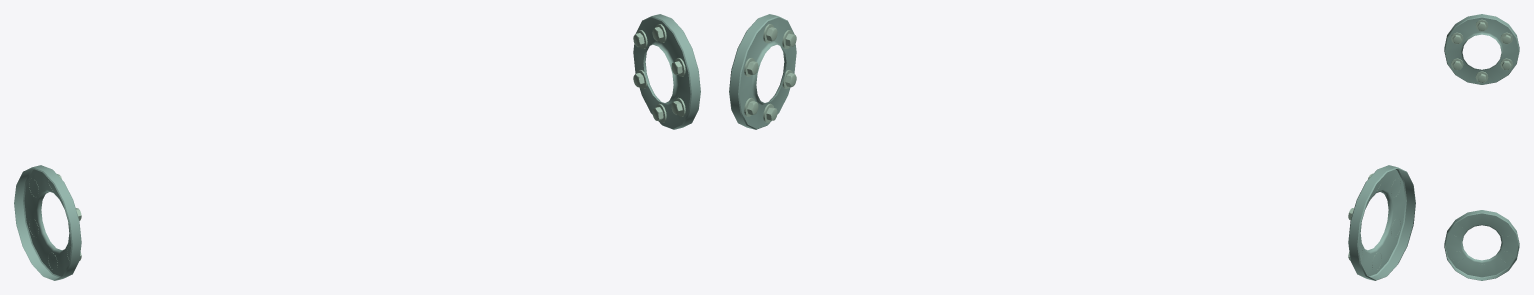
Rendered from PipeComplexLarge_A3_13_End.fbx.
3 renders of one model, left to right at view 1: azimuth 30°, elevation 25°; view 2: azimuth 150°, elevation 25°; view 3: azimuth 270°, elevation 25°, orthographic. The views are drawn at different scales.
Parts seen in each view (by area): view 1: PipeComplexLarge_A3_13_End.001; view 2: PipeComplexLarge_A3_13_End.001; view 3: PipeComplexLarge_A3_13_End.001.
Boxes of the visible parts, bbox=[...] form: PipeComplexLarge_A3_13_End.001: bbox=[14, 14, 700, 280]; PipeComplexLarge_A3_13_End.001: bbox=[729, 14, 1415, 280]; PipeComplexLarge_A3_13_End.001: bbox=[1444, 14, 1519, 280].
Bounding box in the file's own units: 2.4 × 0.3846 × 0.3846.
